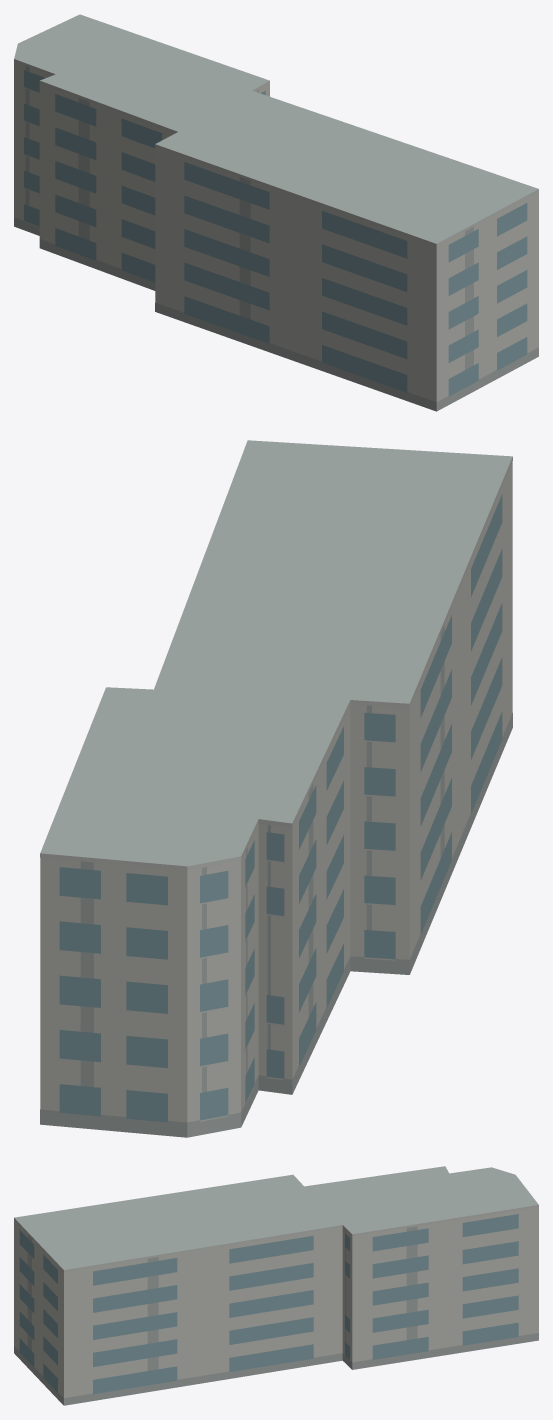
Rendered from residential-adea5a5e-c1e8-4a4e-bda5-6b7d06f49c02.glb.
3 views of the same model, one above another, from view 1: azimuth 30°, elevation 25°; view 2: azimuth 150°, elevation 25°; view 3: azimuth 270°, elevation 25° (orthographic). The views are drawn at different scales.
Parts seen in each view (by area): view 1: residential-adea5a5e-c1e8-4a4e-bda5-6b7d06f49c02.tmp; view 2: residential-adea5a5e-c1e8-4a4e-bda5-6b7d06f49c02.tmp; view 3: residential-adea5a5e-c1e8-4a4e-bda5-6b7d06f49c02.tmp.
Part boxes in pixels (<box>): residential-adea5a5e-c1e8-4a4e-bda5-6b7d06f49c02.tmp: <box>14,14,538,411</box>; residential-adea5a5e-c1e8-4a4e-bda5-6b7d06f49c02.tmp: <box>40,440,512,1137</box>; residential-adea5a5e-c1e8-4a4e-bda5-6b7d06f49c02.tmp: <box>14,1166,538,1405</box>.
Bounding box in the file's own units: 25.08 × 15.25 × 53.49.
